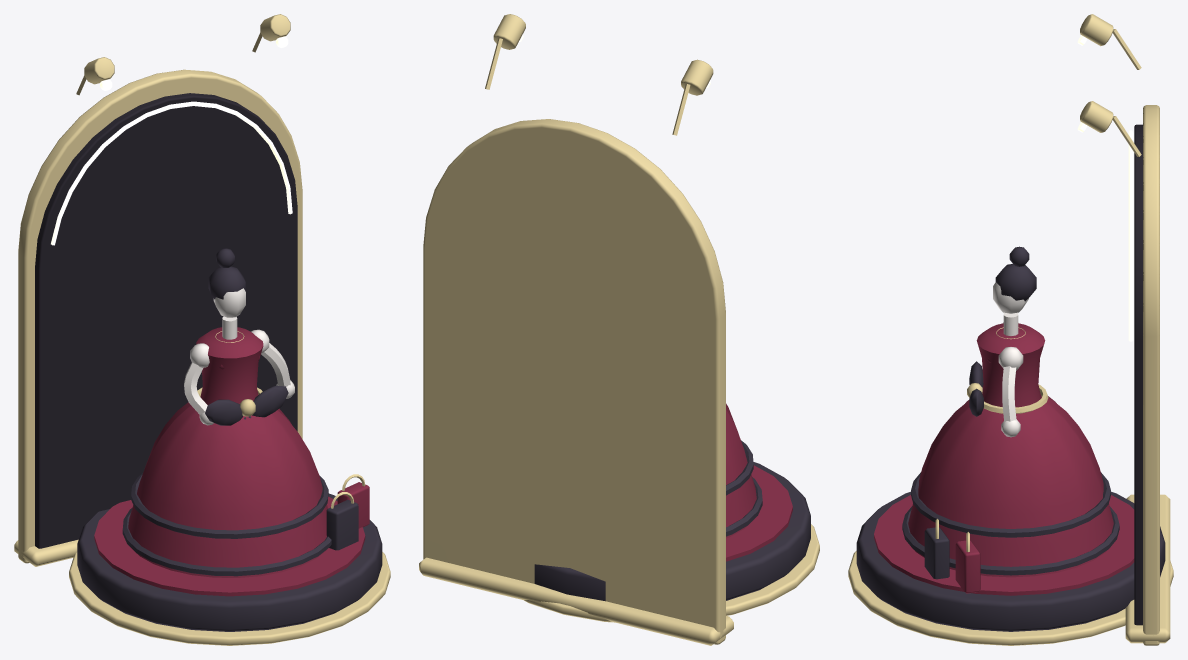
The model's file is mannequin_display.glb.
3 views of the same model, side by side, from view 1: azimuth 30°, elevation 25°; view 2: azimuth 150°, elevation 25°; view 3: azimuth 270°, elevation 25° (orthographic). The views are drawn at different scales.
Parts seen in each view (by area): view 1: mannequin_display; view 2: mannequin_display; view 3: mannequin_display.
Part boxes in pixels (<box>): mannequin_display: <box>14,14,390,645</box>; mannequin_display: <box>419,14,819,645</box>; mannequin_display: <box>848,14,1173,645</box>.
Bounding box in the file's own units: 1.9 × 3.34 × 1.9.
